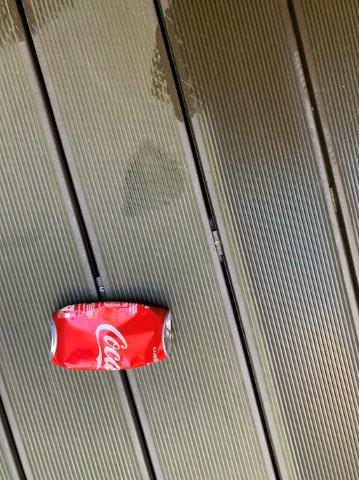kaleng: (50, 303, 172, 371)
